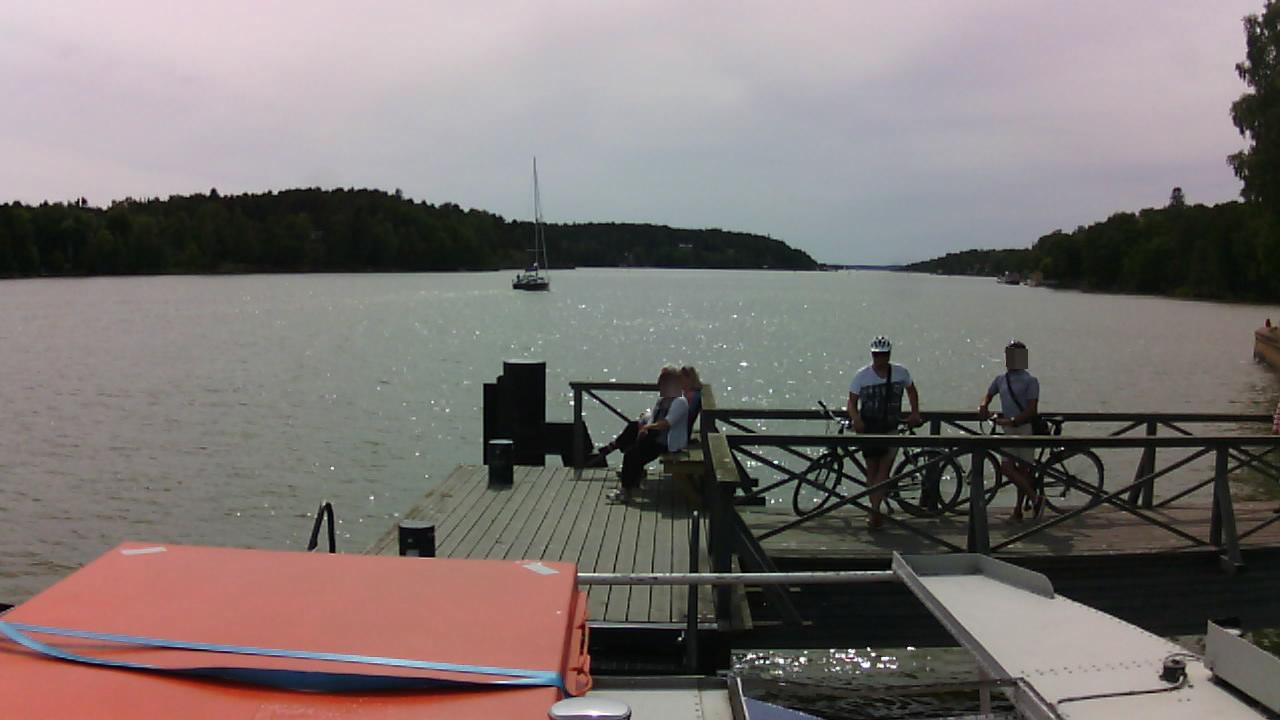Ship: (516, 156, 551, 292)
